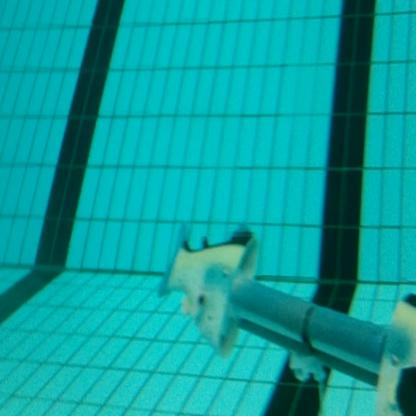tail: (156, 218, 263, 366)
